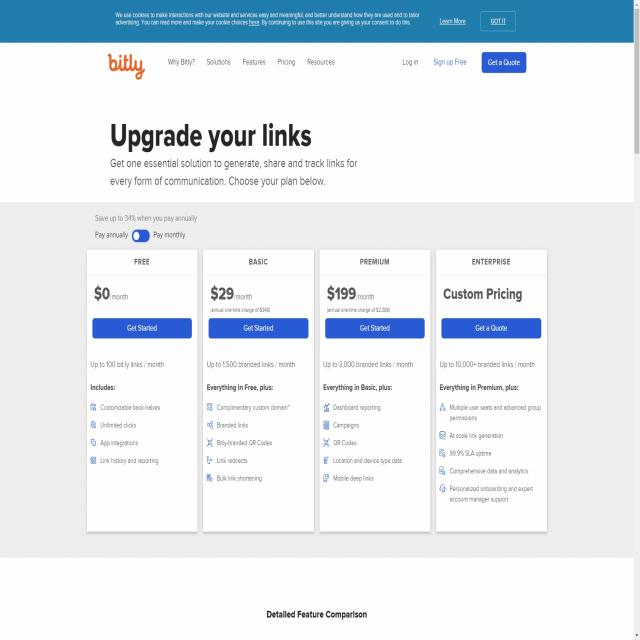menu-bar: (165, 51, 338, 71)
